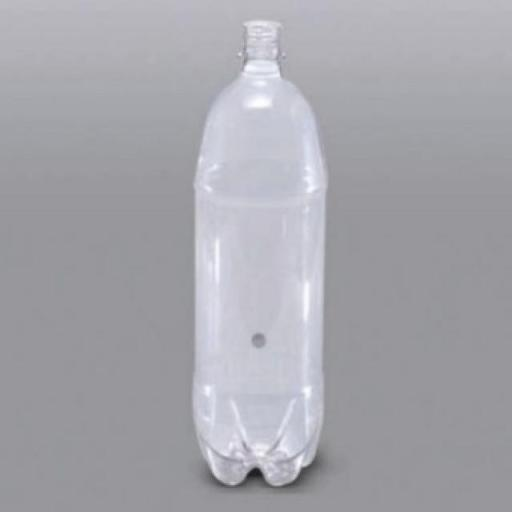plastic: (194, 18, 328, 488)
